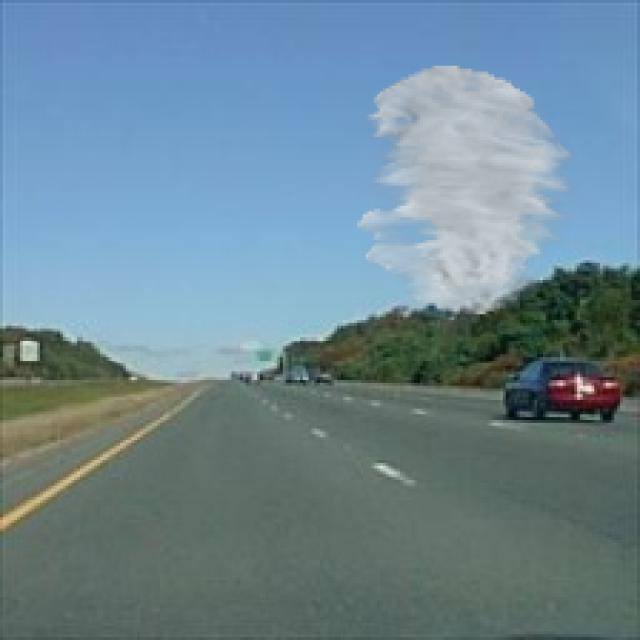Smoke: (357, 66, 574, 314)
